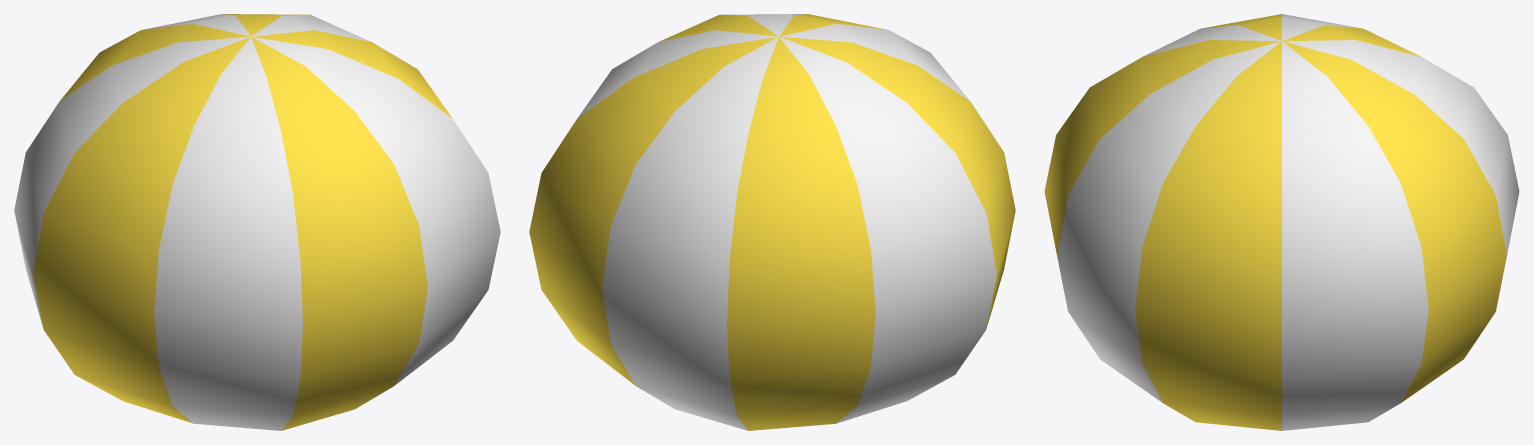
File: Beachball_1_v1.3.fbx
3 renders of one model, left to right at view 1: azimuth 30°, elevation 25°; view 2: azimuth 150°, elevation 25°; view 3: azimuth 270°, elevation 25°, orthographic.
Visible parts, largest first — view 1: pSphere2; view 2: pSphere2; view 3: pSphere2.
Boxes of the visible parts, bbox=[...] form: pSphere2: bbox=[14, 14, 500, 430]; pSphere2: bbox=[529, 14, 1015, 430]; pSphere2: bbox=[1044, 14, 1519, 430].
Bounding box in the file's own units: 76.11 × 63.16 × 74.31.
